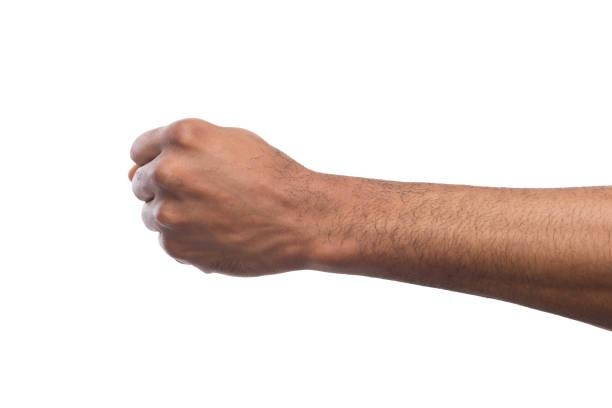rock: (117, 108, 369, 289)
